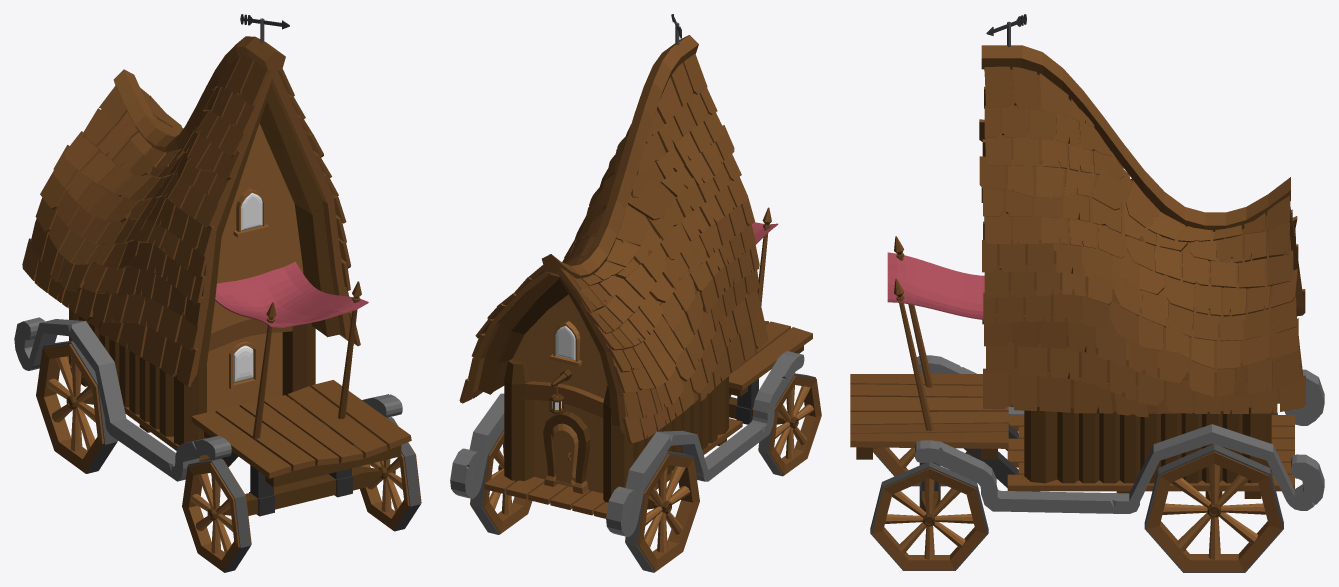
Rendered from C_A_CarriageRed.fbx.
The picture shows the model from 3 angles, left to right: view 1: azimuth 30°, elevation 25°; view 2: azimuth 150°, elevation 25°; view 3: azimuth 270°, elevation 25°; orthographic projection. The views are drawn at different scales.
Visible parts, largest first — view 1: C_A_CarriageRed, C_Wheel.015, C_Wheel.014, C_Wheel.013; view 2: C_A_CarriageRed, C_Wheel.015, C_Wheel.014, C_Wheel.012; view 3: C_A_CarriageRed, C_Wheel.012, C_Wheel.013, C_Wheel.014.
Part boxes in pixels (x1,y1,x2,y2): C_A_CarriageRed: (14, 14, 411, 516); C_Wheel.015: (36, 340, 117, 473); C_Wheel.014: (182, 458, 251, 572); C_Wheel.013: (360, 417, 421, 531); C_A_CarriageRed: (450, 14, 812, 537); C_Wheel.015: (625, 451, 699, 572); C_Wheel.014: (758, 373, 821, 476); C_Wheel.012: (470, 423, 532, 534); C_A_CarriageRed: (850, 14, 1324, 513); C_Wheel.012: (1144, 444, 1283, 572); C_Wheel.013: (870, 462, 988, 570); C_Wheel.014: (873, 447, 971, 486).
Size of the model in its own units: 307 by 759 by 644.
